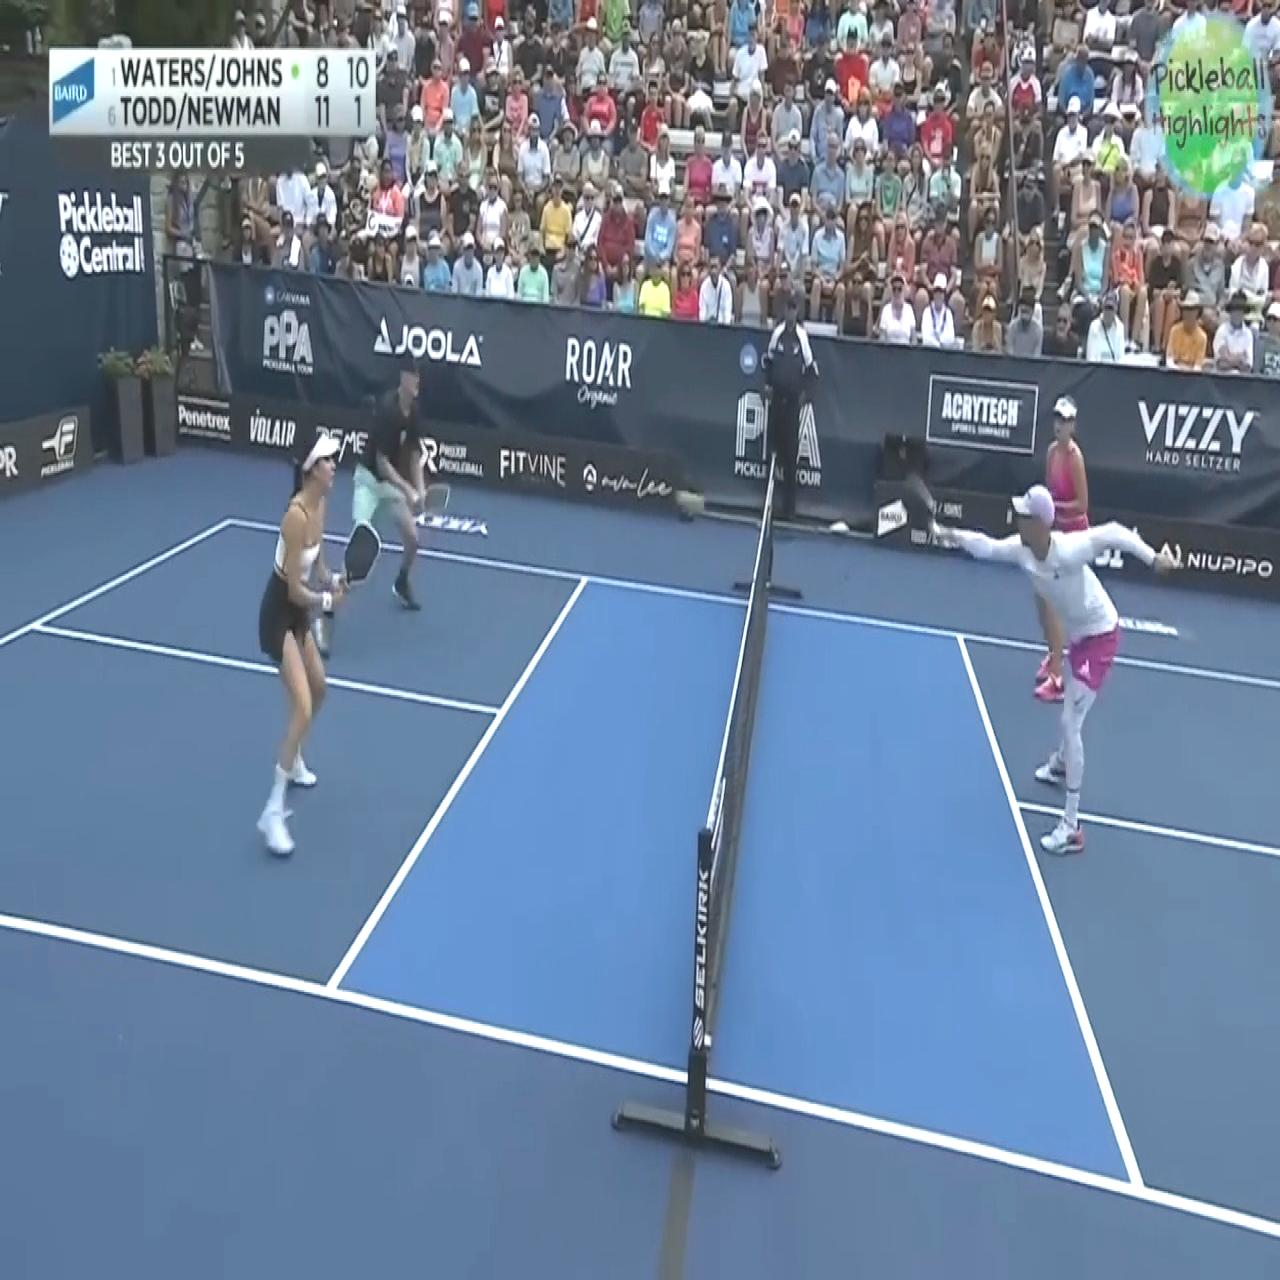Pickleball: (670, 482, 715, 517)
